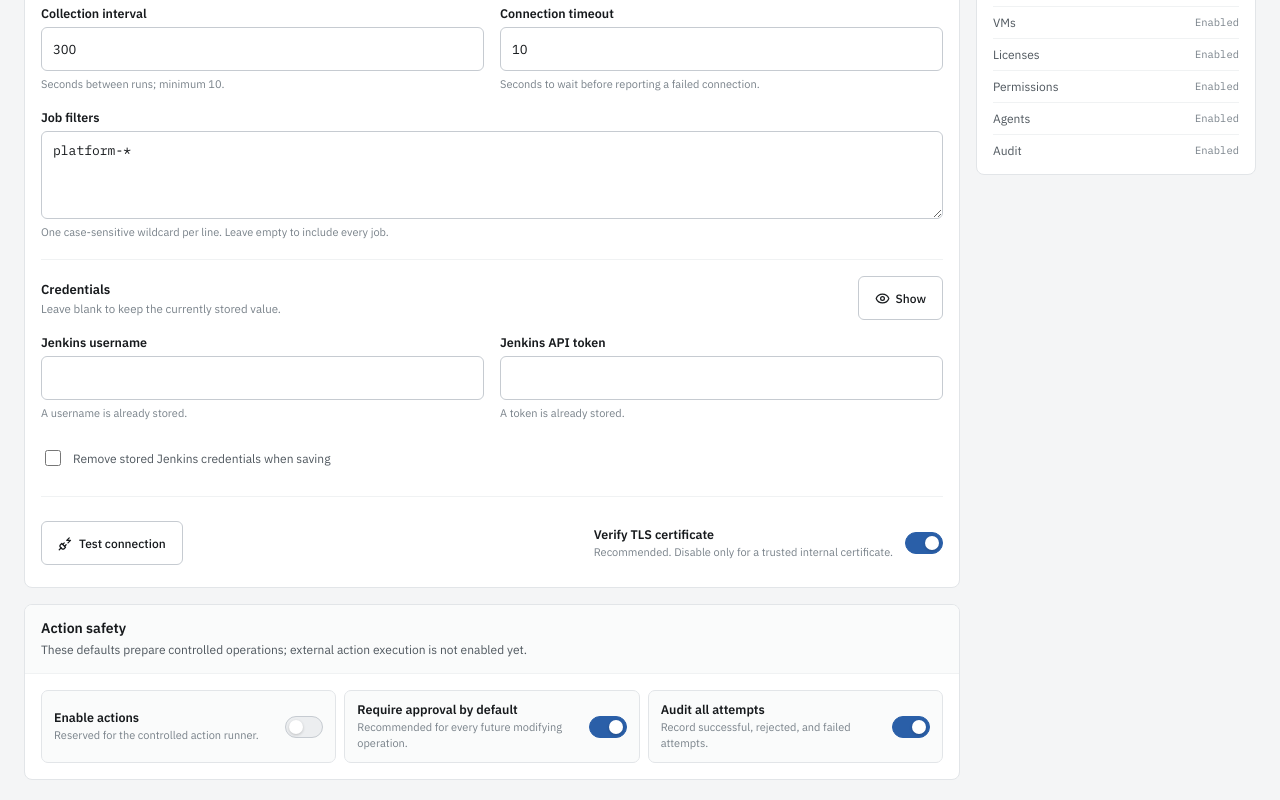
SettingsPage › tests the current Jenkins fields without saving
The image size is (1280, 800).
(page scrolled)
Click the button "Test connection": (112, 543) [41,521,183,565]
(page scrolled)
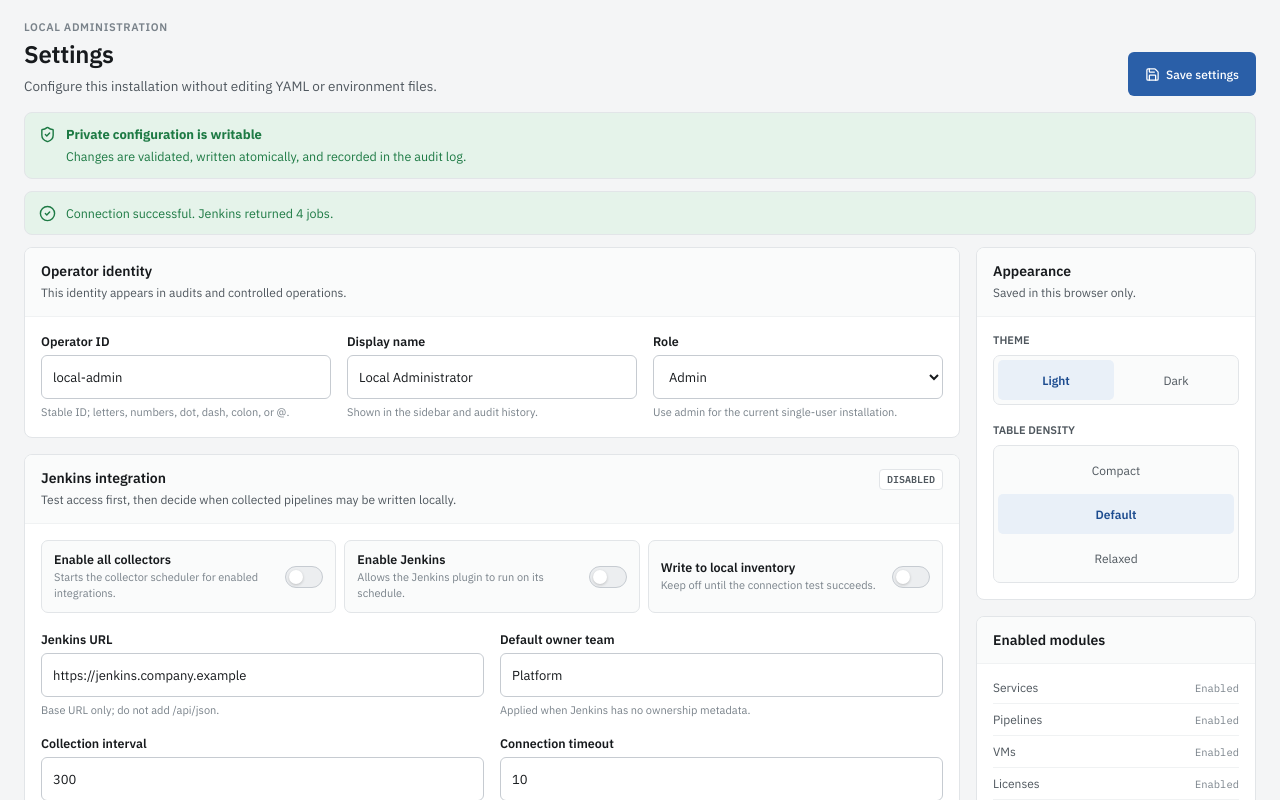
Check: the text "Connection successful. Jenkins returned 4 jobs." is shown, box [66,204,333,222]
